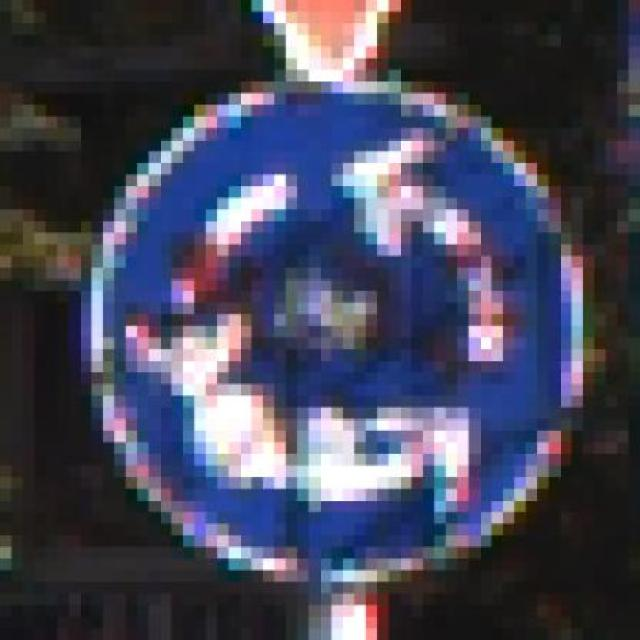Round-About: (57, 69, 629, 594)
